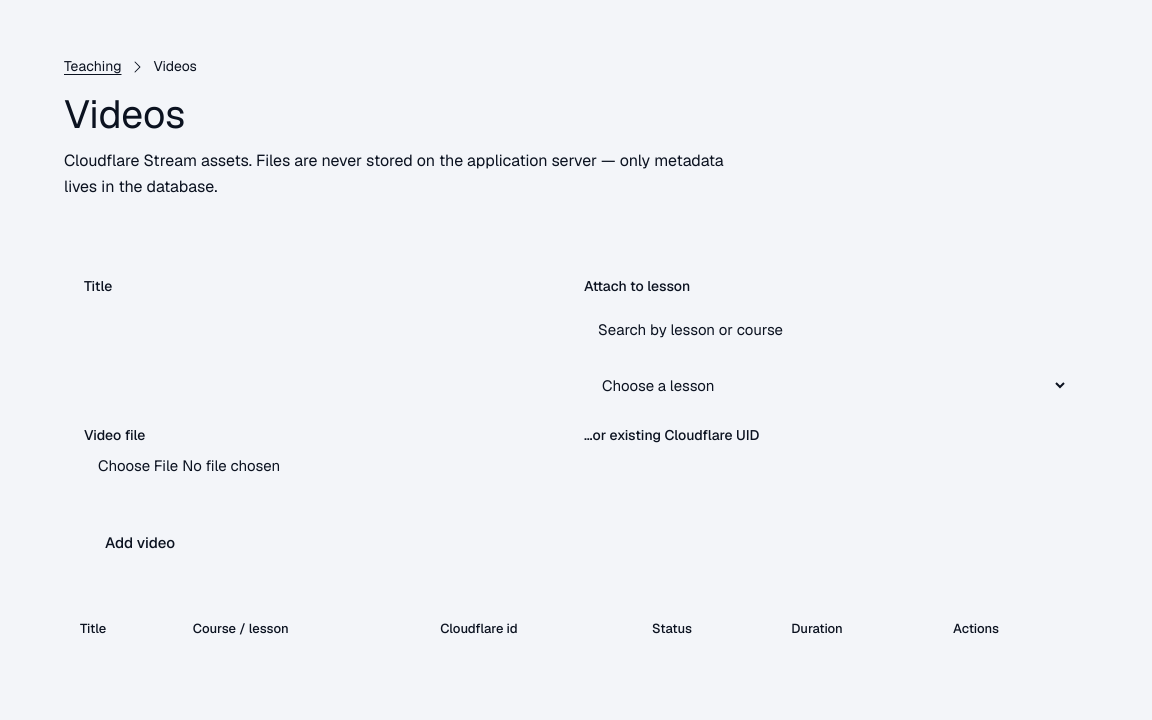
video lesson picker › searches on the server and keeps the chosen lesson listed
Step 1. Select "Evidence — Lesson 2" in the dropdown labelled "Attach to lesson" → (826, 385), box [584,361,1068,409]
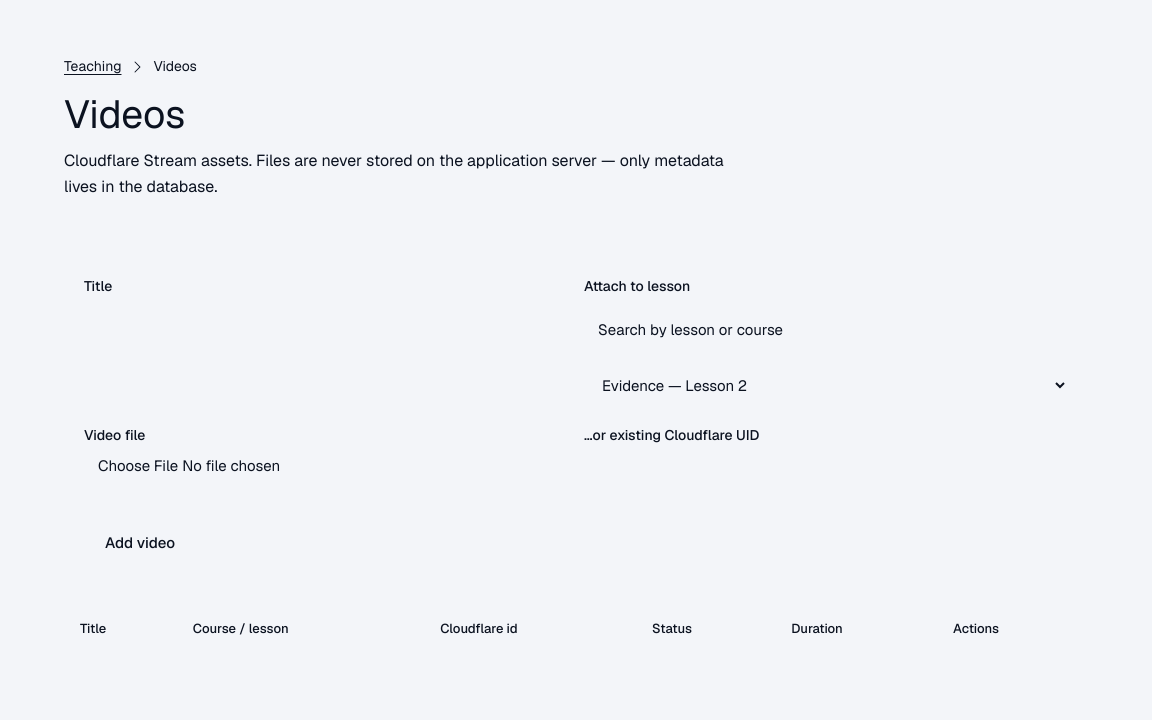
Step 2. Type "writ" into the search field named "Search lessons" → (826, 329), box [584,305,1068,353]
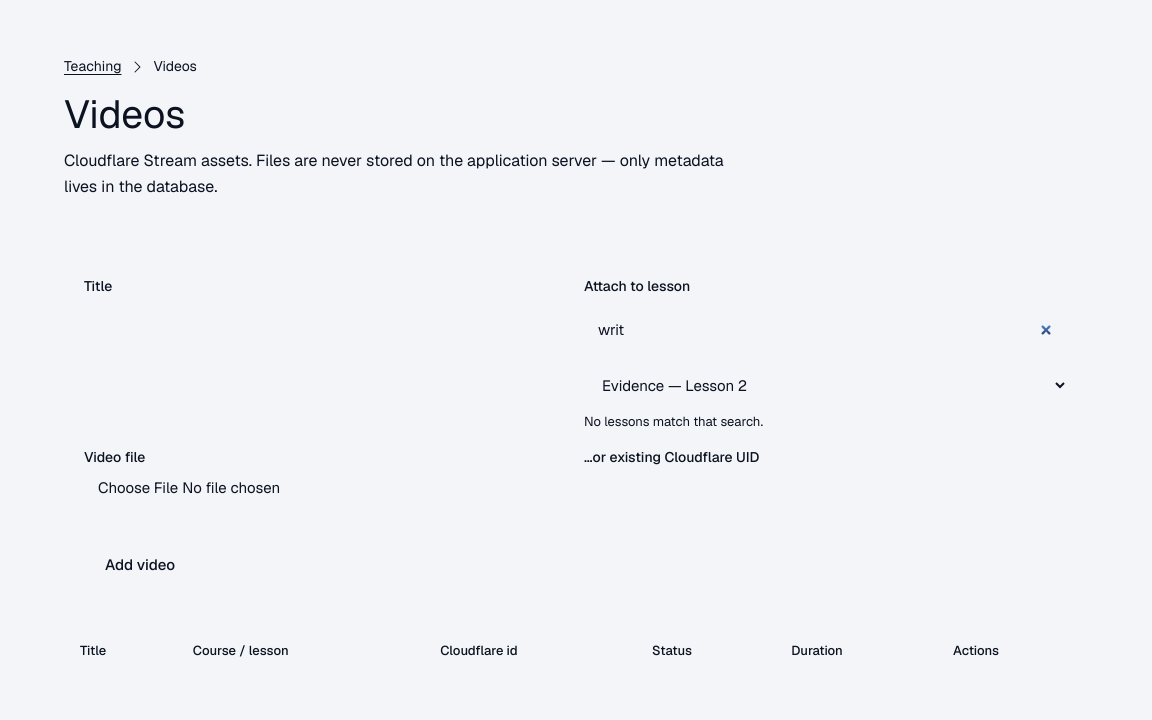
Now the text "No lessons match that search." is shown, box [584,413,763,430]
